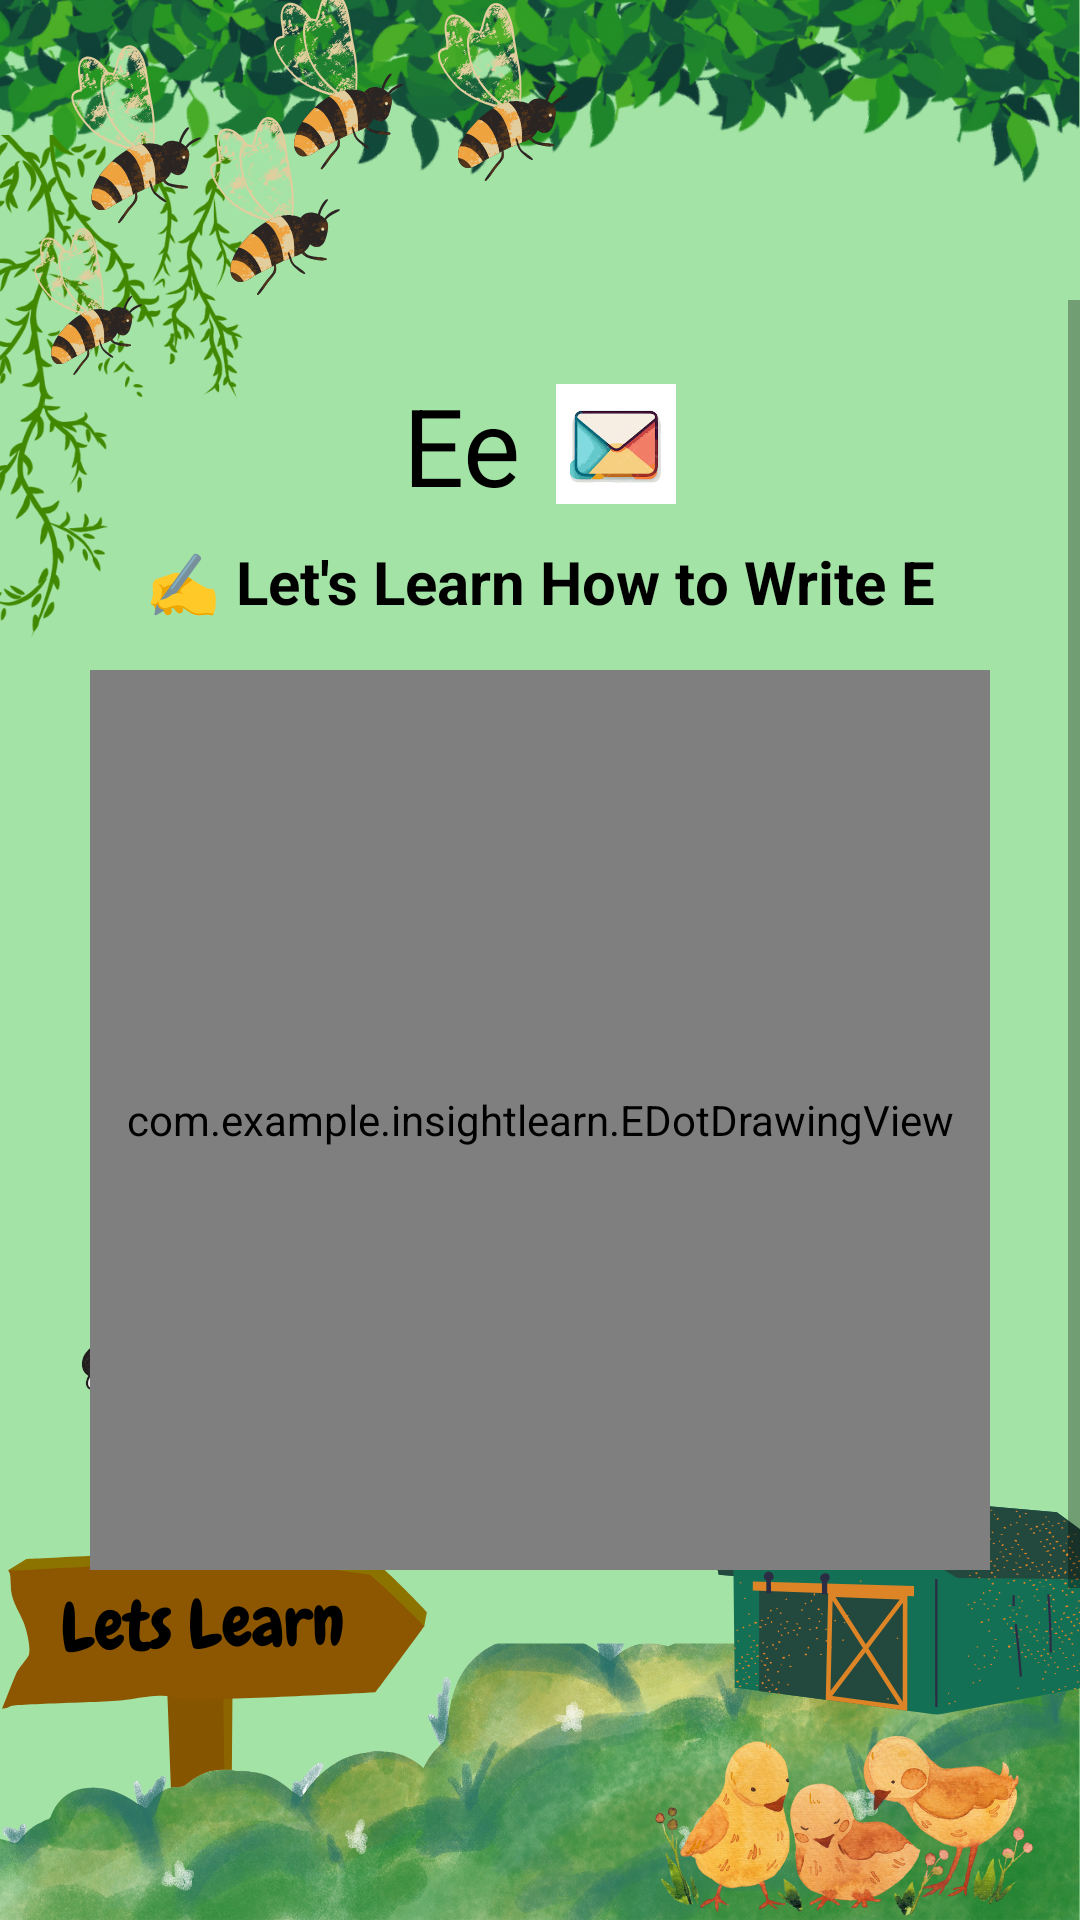

Where icons sit on this 1080px×1920px app screen, as (x1, y1, x2, y2):
Envelope: (556, 384, 676, 504)
